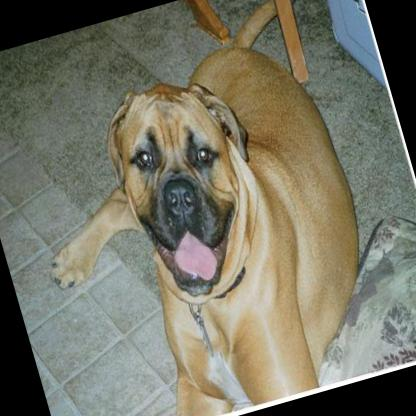bull_mastiff: (0, 23, 399, 416)
